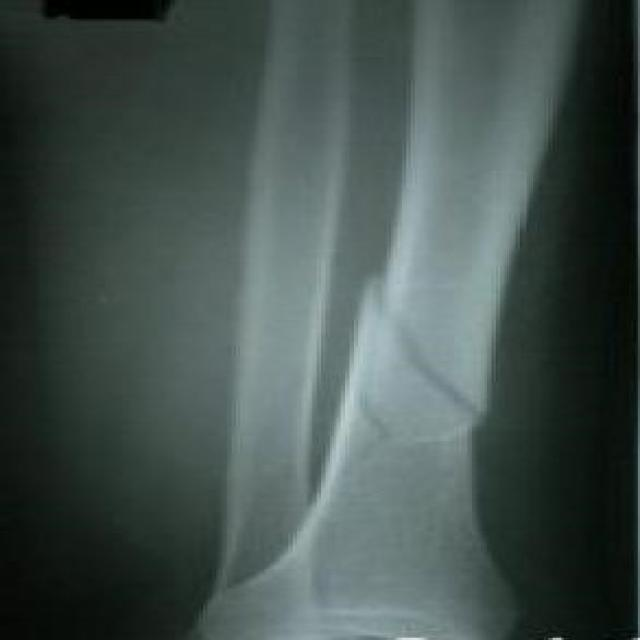comminuted: (200, 232, 533, 475)
